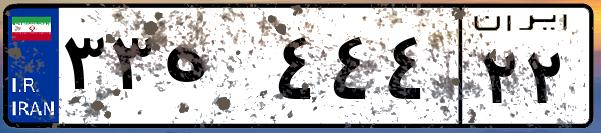2: (475, 38, 525, 113), (525, 38, 570, 115)
3: (57, 26, 110, 100), (110, 28, 158, 98)
4: (270, 28, 330, 110), (385, 28, 445, 110), (330, 28, 385, 110)
ه: (158, 20, 270, 120)
